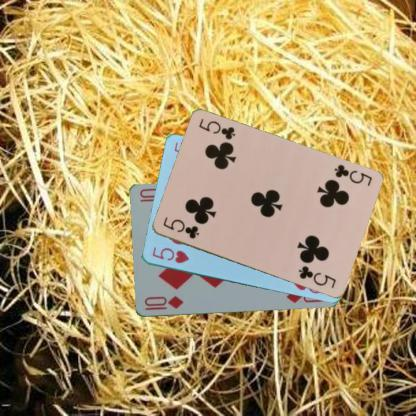10d: (142, 293, 184, 311)
5c: (331, 162, 373, 188), (160, 214, 200, 240)
5h: (149, 245, 190, 266)
